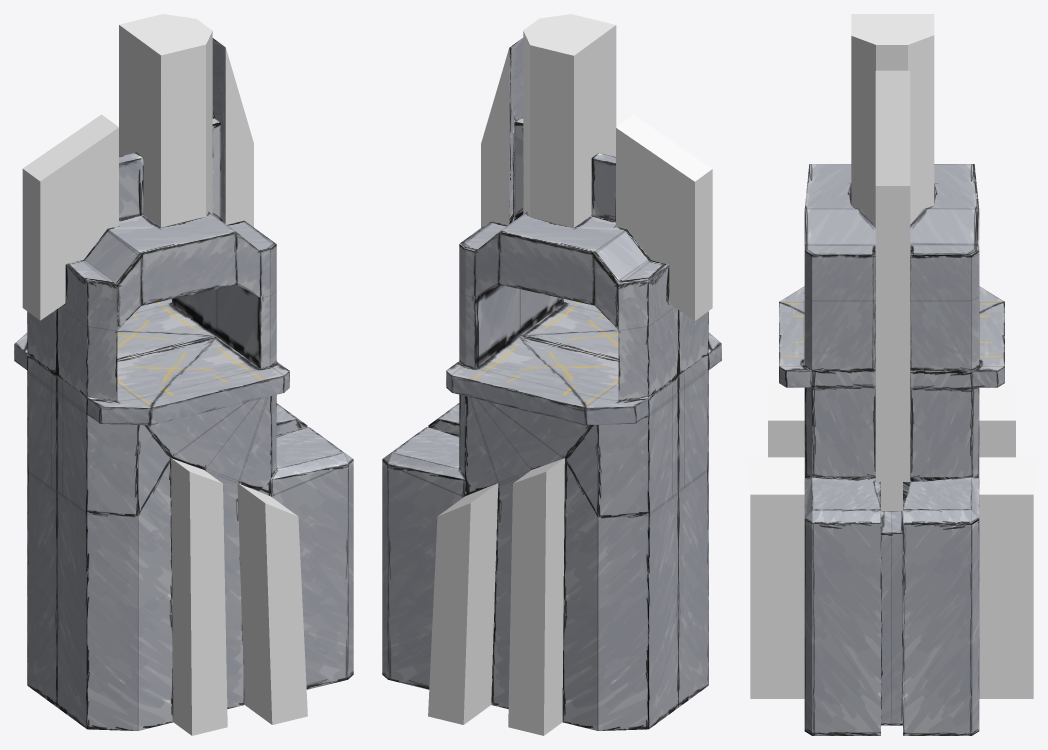
File: command_tower.dae
3 views of the same model, side by side, from view 1: azimuth 30°, elevation 25°; view 2: azimuth 150°, elevation 25°; view 3: azimuth 270°, elevation 25° (orthographic).
Visible parts, largest first — view 1: Cube; view 2: Cube; view 3: Cube.
Part boxes in pixels (x1=…): Cube: x1=14, y1=14, x2=353, y2=735; Cube: x1=382, y1=14, x2=721, y2=735; Cube: x1=750, y1=14, x2=1033, y2=735.
Bounding box in the file's own units: 3.27 × 2.89 × 7.18.
Materials: 4 (4 with a texture image).
